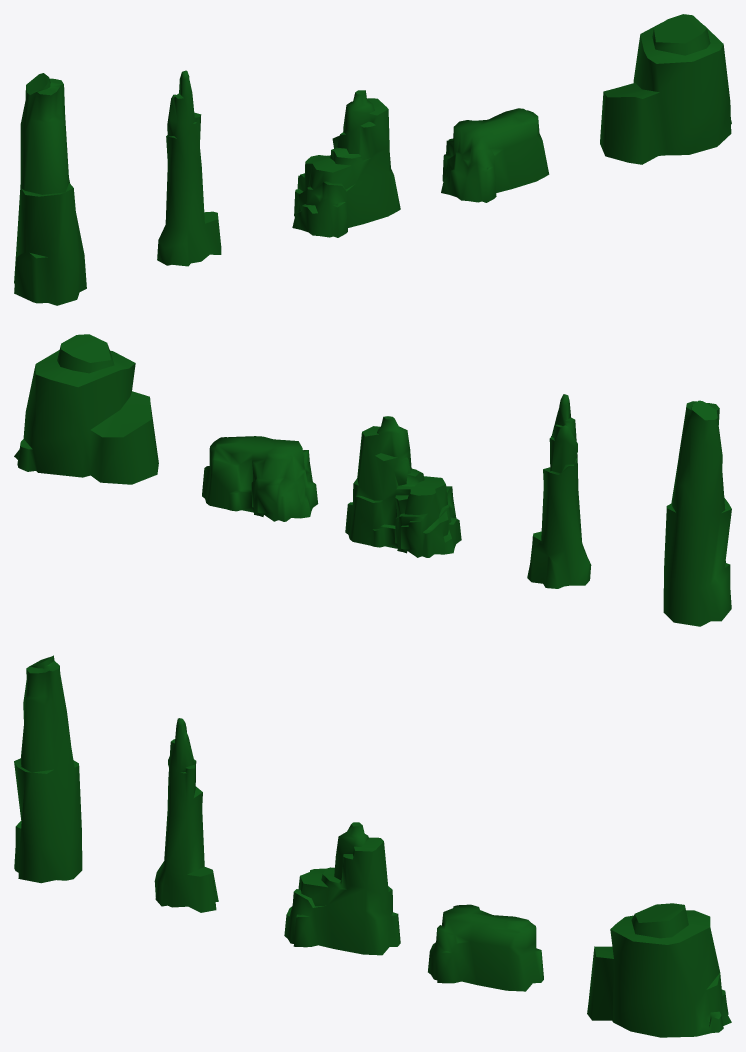
3 views of the same model, one above another, from view 1: azimuth 30°, elevation 25°; view 2: azimuth 150°, elevation 25°; view 3: azimuth 330°, elevation 25° (orthographic).
Visible parts, largest first — view 1: 对象005, Plane001, 对象003, 对象004, 对象001; view 2: 对象005, Plane001, 对象003, 对象004, 对象001; view 3: 对象005, Plane001, 对象003, 对象004, 对象001.
Part boxes in pixels (x1=…): 对象005: x1=600, y1=14, x2=731, y2=164; Plane001: x1=14, y1=73, x2=86, y2=305; 对象003: x1=292, y1=90, x2=400, y2=237; 对象004: x1=441, y1=108, x2=549, y2=202; 对象001: x1=157, y1=70, x2=221, y2=266; 对象005: x1=14, y1=334, x2=158, y2=484; Plane001: x1=663, y1=400, x2=731, y2=626; 对象003: x1=345, y1=416, x2=461, y2=557; 对象004: x1=202, y1=436, x2=318, y2=521; 对象001: x1=527, y1=394, x2=591, y2=588; 对象005: x1=587, y1=903, x2=731, y2=1037; Plane001: x1=14, y1=655, x2=82, y2=883; 对象003: x1=284, y1=822, x2=400, y2=955; 对象004: x1=428, y1=904, x2=543, y2=991; 对象001: x1=154, y1=718, x2=218, y2=912.
Bounding box in the file's own units: 53027 × 15186 × 6629.
